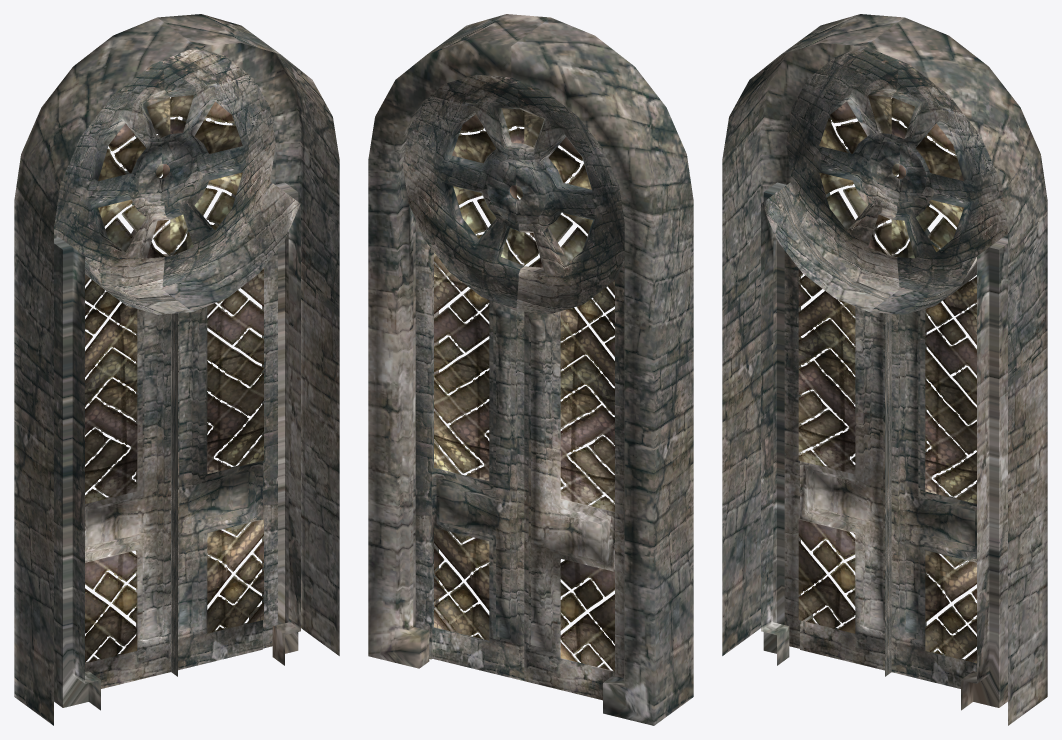
Rendered from r90dor00.obj.
3 views of the same model, side by side, from view 1: azimuth 30°, elevation 25°; view 2: azimuth 150°, elevation 25°; view 3: azimuth 330°, elevation 25° (orthographic).
Visible parts, largest first — view 1: door_fleam_door_fleamShape, door01_door0Shape1, door02_door0Shape2; view 2: door_fleam_door_fleamShape, door01_door0Shape1, door02_door0Shape2; view 3: door_fleam_door_fleamShape, door02_door0Shape2, door01_door0Shape1.
Boxes of the visible parts, <box> form: door_fleam_door_fleamShape: <box>14,14,339,725</box>; door01_door0Shape1: <box>171,250,277,676</box>; door02_door0Shape2: <box>62,239,177,688</box>; door_fleam_door_fleamShape: <box>368,14,693,725</box>; door01_door0Shape1: <box>415,220,524,680</box>; door02_door0Shape2: <box>524,264,624,700</box>; door_fleam_door_fleamShape: <box>722,14,1047,725</box>; door02_door0Shape2: <box>777,187,891,670</box>; door01_door0Shape1: <box>885,274,976,688</box>.
Bounding box in the file's own units: 2.44 × 5.26 × 0.5839.
2 materials, 2 textured.
